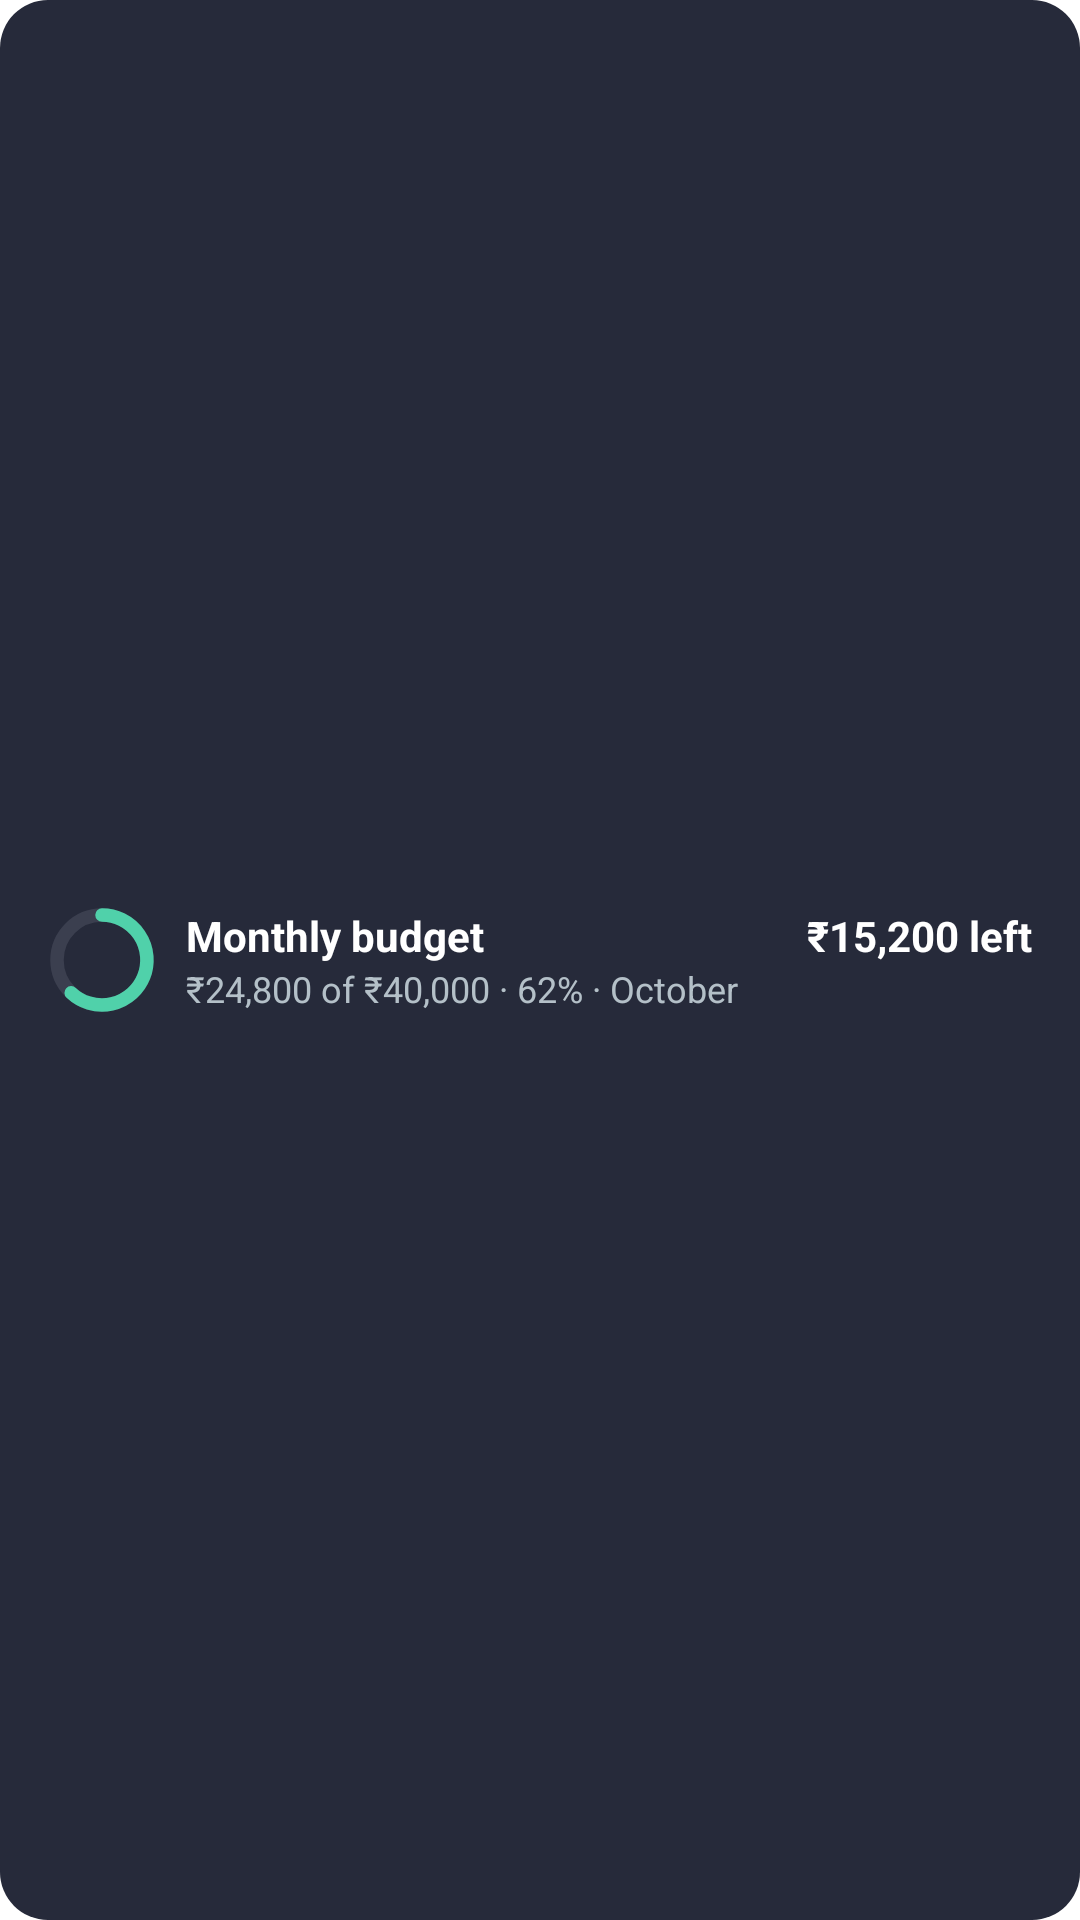

Icon bounding boxes for this 1080px x 1920px phone screenshot, format (x1, y1, x2, y2):
widget ring: (64, 908, 154, 1012)
